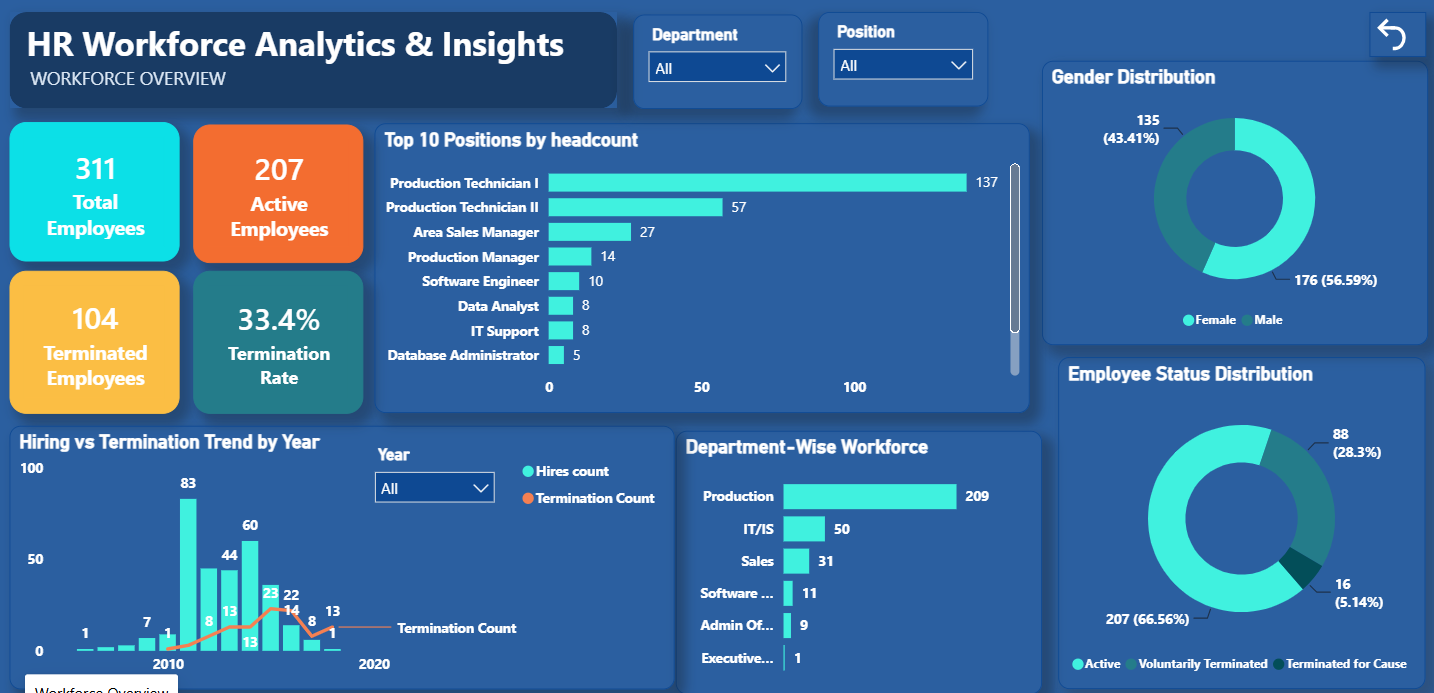

This screenshot's page, from the dashboard's own definition file:
{"tool":"powerbi","page":{"name":"Workforce Overview","canvas":[1280,620],"ordinal":0},"visuals":[{"type":"shape","box":[11.4,12.9,540,85.7],"z":0},{"type":"textbox","box":[24.3,55.7,204.3,42.9],"z":1000},{"type":"cardVisual","fields":{"Data":["hr_analytics fact_employee.Total Employees"]},"box":[11.4,111.4,151.4,124.3],"z":2000},{"type":"cardVisual","fields":{"Data":["hr_analytics fact_employee.Active Employees"]},"box":[174.3,112.9,151.4,122.9],"z":3000},{"type":"cardVisual","fields":{"Data":["hr_analytics fact_employee.Terminated Employees"]},"box":[11.4,242.9,151.4,127.1],"z":4000},{"type":"cardVisual","fields":{"Data":["hr_analytics fact_employee.Termination Rate"]},"box":[174.3,242.9,151.4,127.1],"z":5000},{"type":"clusteredBarChart","title":"Department-Wise Workforce","fields":{"Category":["hr_analytics dim_department.Department"],"Y":["CountNonNull(hr_analytics fact_employee.EmpID)"]},"box":[602.9,385.7,325.7,234.3],"z":6000},{"type":"donutChart","title":"Gender Distribution","fields":{"Category":["hr_analytics dim_employee.Gender"],"Y":["CountNonNull(hr_analytics fact_employee.EmpID)"]},"box":[928.6,57.1,342.9,252.9],"z":7000},{"type":"lineClusteredColumnComboChart","title":"Hiring  vs Termination Trend by Year","fields":{"Category":["hr_analytics dim_date.Year"],"Y":["hr_analytics fact_employee.Hire Date"],"Y2":["hr_analytics fact_employee.Termination Count"]},"box":[11.4,381.4,591.4,234.3],"z":8000},{"type":"slicer","fields":{"Values":["hr_analytics dim_date.Year","hr_analytics dim_date.MonthName"]},"box":[325.7,392.9,127.1,71.4],"z":9000},{"type":"donutChart","title":"Employee Status Distribution","fields":{"Category":["hr_analytics dim_employment_status.EmploymentStatus"],"Y":["Count(hr_analytics fact_employee.EmpID)"]},"box":[943.8,320,326.2,295],"z":10000},{"type":"clusteredBarChart","title":"Top 10 Positions by headcount","fields":{"Category":["hr_analytics dim_position.Position"],"Y":["CountNonNull(hr_analytics fact_employee.EmpID)"]},"box":[335,112.5,582.5,257.5],"z":11000},{"type":"slicer","fields":{"Values":["hr_analytics dim_department.Department"]},"box":[565,15,150,83.8],"z":12000},{"type":"slicer","fields":{"Values":["hr_analytics dim_position.Position"]},"box":[730,13.8,151.2,83.8],"z":13000},{"type":"actionButton","box":[1220,13.3,50,40],"z":14000}]}

Visuals, with their boxes in screenshot pixels (x1, y1, x2, y2), scaled from the page's 1280x620 canvas onto the 1434x693 screenshot:
shape: <region>13, 14, 618, 110</region>
textbox: <region>27, 62, 256, 110</region>
cardVisual - hr_analytics fact_employee.Total Employees: <region>13, 125, 182, 263</region>
cardVisual - hr_analytics fact_employee.Active Employees: <region>195, 126, 365, 264</region>
cardVisual - hr_analytics fact_employee.Terminated Employees: <region>13, 271, 182, 414</region>
cardVisual - hr_analytics fact_employee.Termination Rate: <region>195, 271, 365, 414</region>
"Department-Wise Workforce" clusteredBarChart: <region>675, 431, 1040, 692</region>
"Gender Distribution" donutChart: <region>1040, 64, 1424, 346</region>
"Hiring  vs Termination Trend by Year" lineClusteredColumnComboChart: <region>13, 426, 675, 688</region>
slicer - hr_analytics dim_date.Year x hr_analytics dim_date.MonthName: <region>365, 439, 507, 519</region>
"Employee Status Distribution" donutChart: <region>1057, 358, 1423, 687</region>
"Top 10 Positions by headcount" clusteredBarChart: <region>375, 126, 1028, 414</region>
slicer - hr_analytics dim_department.Department: <region>633, 17, 801, 110</region>
slicer - hr_analytics dim_position.Position: <region>818, 15, 987, 109</region>
actionButton: <region>1367, 15, 1423, 60</region>
